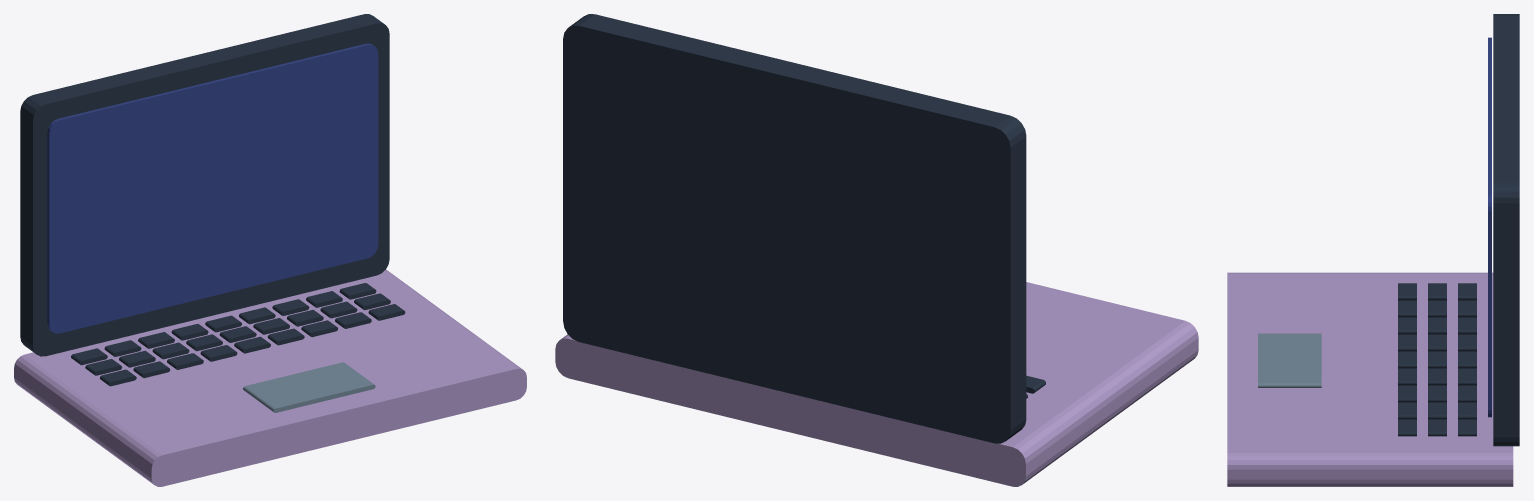
Rendered from laptop.glb.
The picture shows the model from 3 angles, left to right: view 1: azimuth 30°, elevation 25°; view 2: azimuth 150°, elevation 25°; view 3: azimuth 270°, elevation 25°; orthographic projection. The views are drawn at different scales.
Parts seen in each view (by area): view 1: display glass, base, display bezel, trackpad; view 2: display bezel, base; view 3: base, display bezel, trackpad, display glass, key 0-0, key 0-1, key 0-2, key 0-3, key 0-4, key 0-5, key 0-6, key 0-7 (+19 smaller).
Part boxes in pixels (box(x1,y1,x2,y2)): display glass: box(47, 43, 378, 333); base: box(14, 269, 526, 486); display bezel: box(20, 14, 389, 356); trackpad: box(243, 362, 375, 412); display bezel: box(563, 14, 1026, 443); base: box(555, 282, 1198, 486); base: box(1227, 272, 1513, 486); display bezel: box(1493, 14, 1519, 446); trackpad: box(1258, 333, 1321, 387); display glass: box(1488, 37, 1491, 417); key 0-0: box(1458, 283, 1476, 300); key 0-1: box(1458, 300, 1476, 317); key 0-2: box(1458, 317, 1476, 334); key 0-3: box(1458, 334, 1476, 351); key 0-4: box(1458, 351, 1476, 368); key 0-5: box(1458, 368, 1476, 385); key 0-6: box(1458, 385, 1476, 402); key 0-7: box(1458, 402, 1476, 419).
Size of the model in its own units: 1.62 by 1.18 by 1.05.
